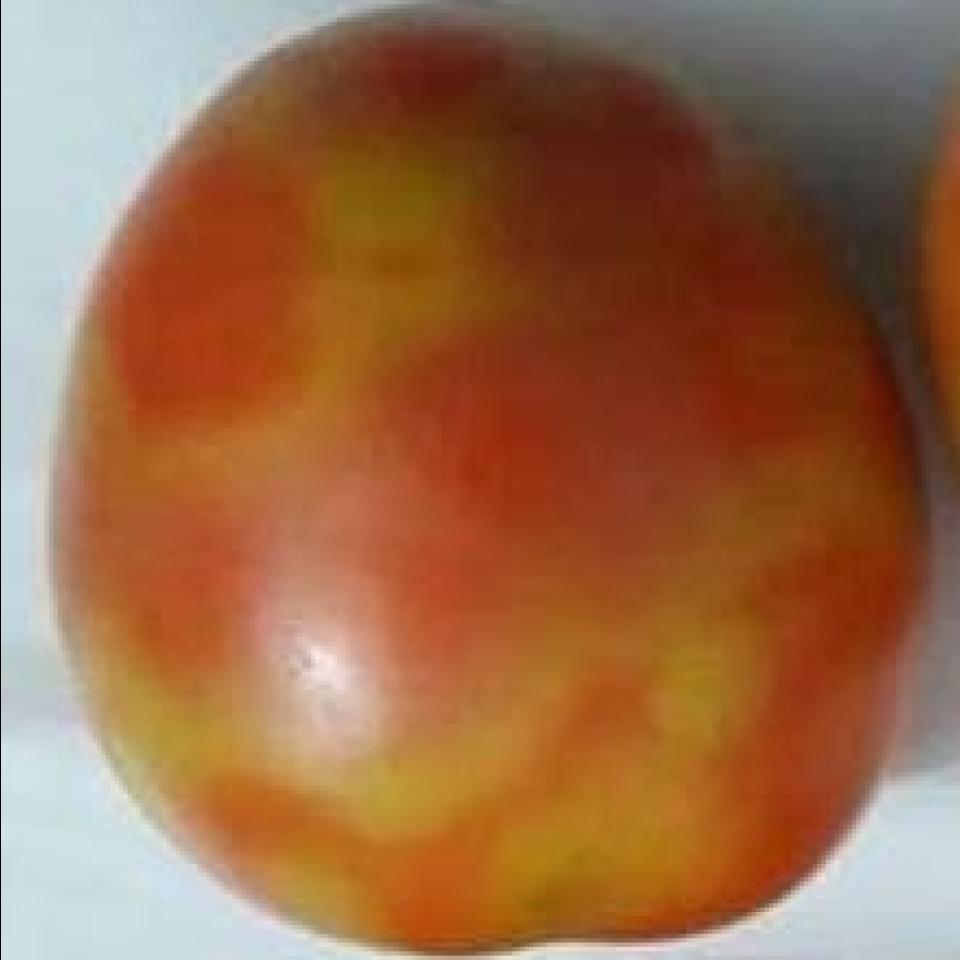Spotted wilt Virus: (46, 2, 926, 956)
